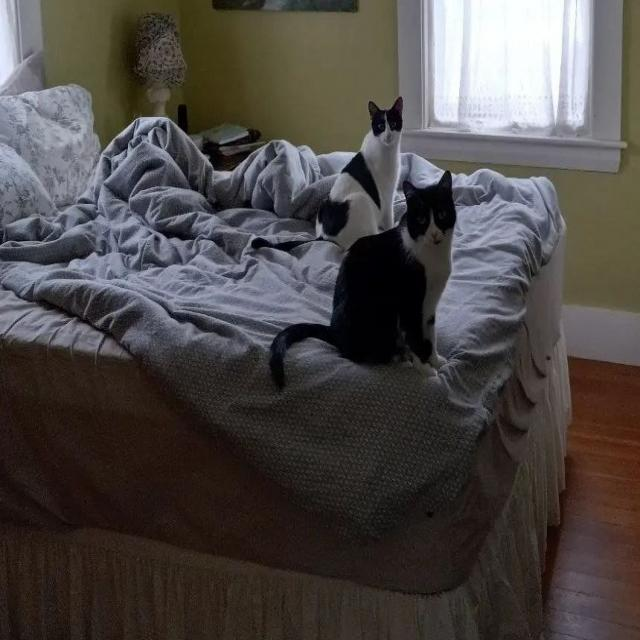bed: (0, 75, 574, 585)
